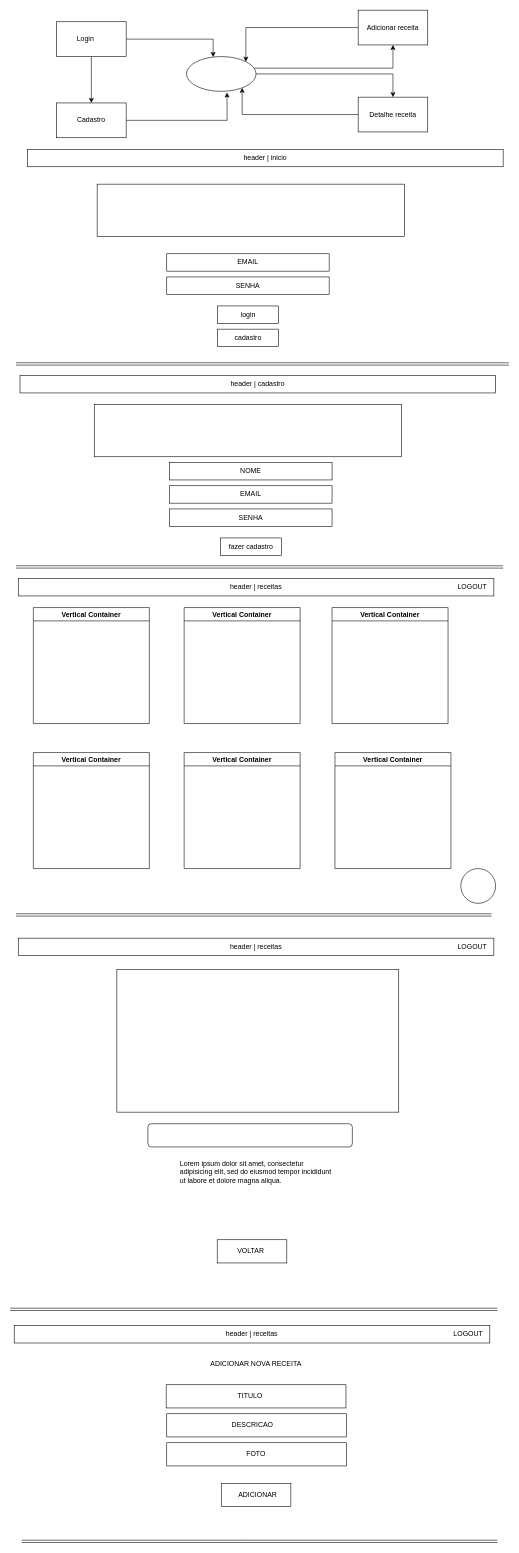
Image size: 519x1553. Some labels were removed from this diagram. The centre of each missing label's shape, as x and y in pixels:
ADD RECEITA: pixel 478 885
Feed de Receitas: pixel 221 73
IMAGEM: pixel 251 210
NOME DA RECEITA: pixel 249 1135
